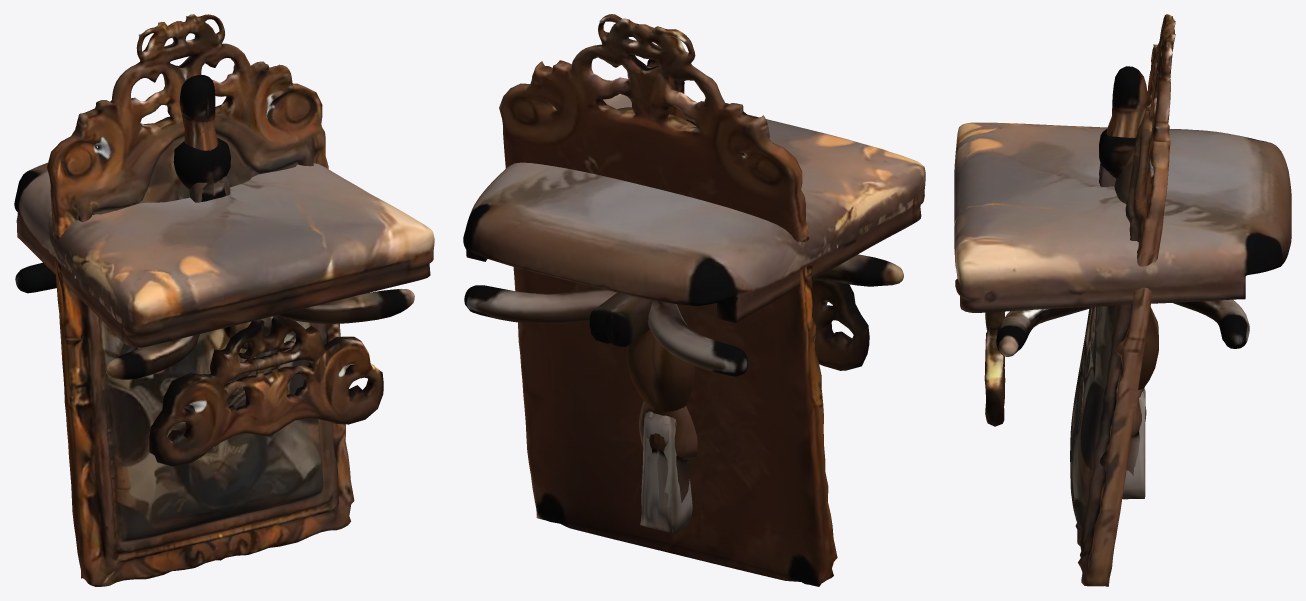
3 views of the same model, side by side, from view 1: azimuth 30°, elevation 25°; view 2: azimuth 150°, elevation 25°; view 3: azimuth 270°, elevation 25° (orthographic). The views are drawn at different scales.
Parts seen in each view (by area): view 1: root.0, root.1, root.2, root.6, root.3, root.5, root.4; view 2: root.0, root.1, root.2, root.6, root.4, root.3, root.5, root.8, root.7; view 3: root.1, root.0, root.2, root.5, root.4, root.6.
Part boxes in pixels (x1=…): root.0: x1=47, y1=14, x2=354, y2=586; root.1: x1=14, y1=162, x2=434, y2=466; root.2: x1=15, y1=262, x2=414, y2=379; root.6: x1=179, y1=75, x2=225, y2=202; root.3: x1=173, y1=141, x2=214, y2=188; root.5: x1=196, y1=75, x2=230, y2=201; root.4: x1=210, y1=138, x2=230, y2=183; root.0: x1=499, y1=14, x2=837, y2=586; root.1: x1=463, y1=94, x2=925, y2=370; root.2: x1=464, y1=254, x2=903, y2=376; root.6: x1=643, y1=62, x2=692, y2=533; root.4: x1=626, y1=329, x2=697, y2=459; root.3: x1=639, y1=119, x2=696, y2=448; root.5: x1=640, y1=59, x2=690, y2=532; root.8: x1=606, y1=296, x2=652, y2=347; root.7: x1=589, y1=292, x2=630, y2=343; root.1: x1=954, y1=122, x2=1291, y2=426; root.0: x1=1070, y1=14, x2=1175, y2=586; root.2: x1=996, y1=299, x2=1249, y2=356; root.5: x1=1099, y1=68, x2=1147, y2=499; root.4: x1=1099, y1=134, x2=1158, y2=412; root.6: x1=1099, y1=66, x2=1147, y2=496.
Size of the model in its own units: 24562 by 39125 by 23690.
1 material, 1 textured.
